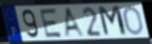2: (81, 6, 104, 38)
9: (22, 8, 40, 39)
A: (64, 7, 87, 39)
E: (38, 7, 64, 39)
M: (96, 5, 129, 38)
O: (123, 5, 145, 37)
